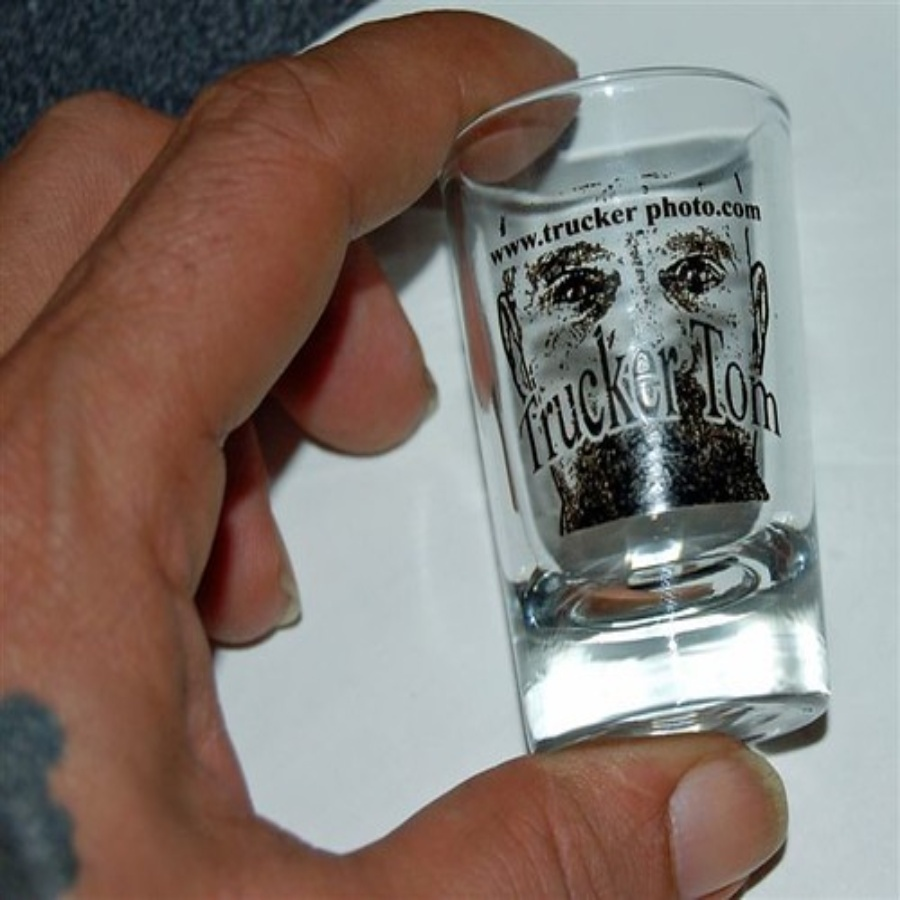whiskey: (487, 89, 808, 743)
